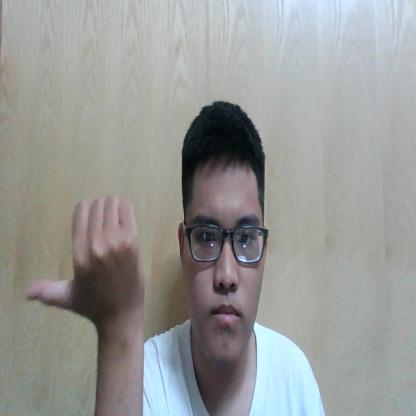right: (25, 196, 149, 333)
